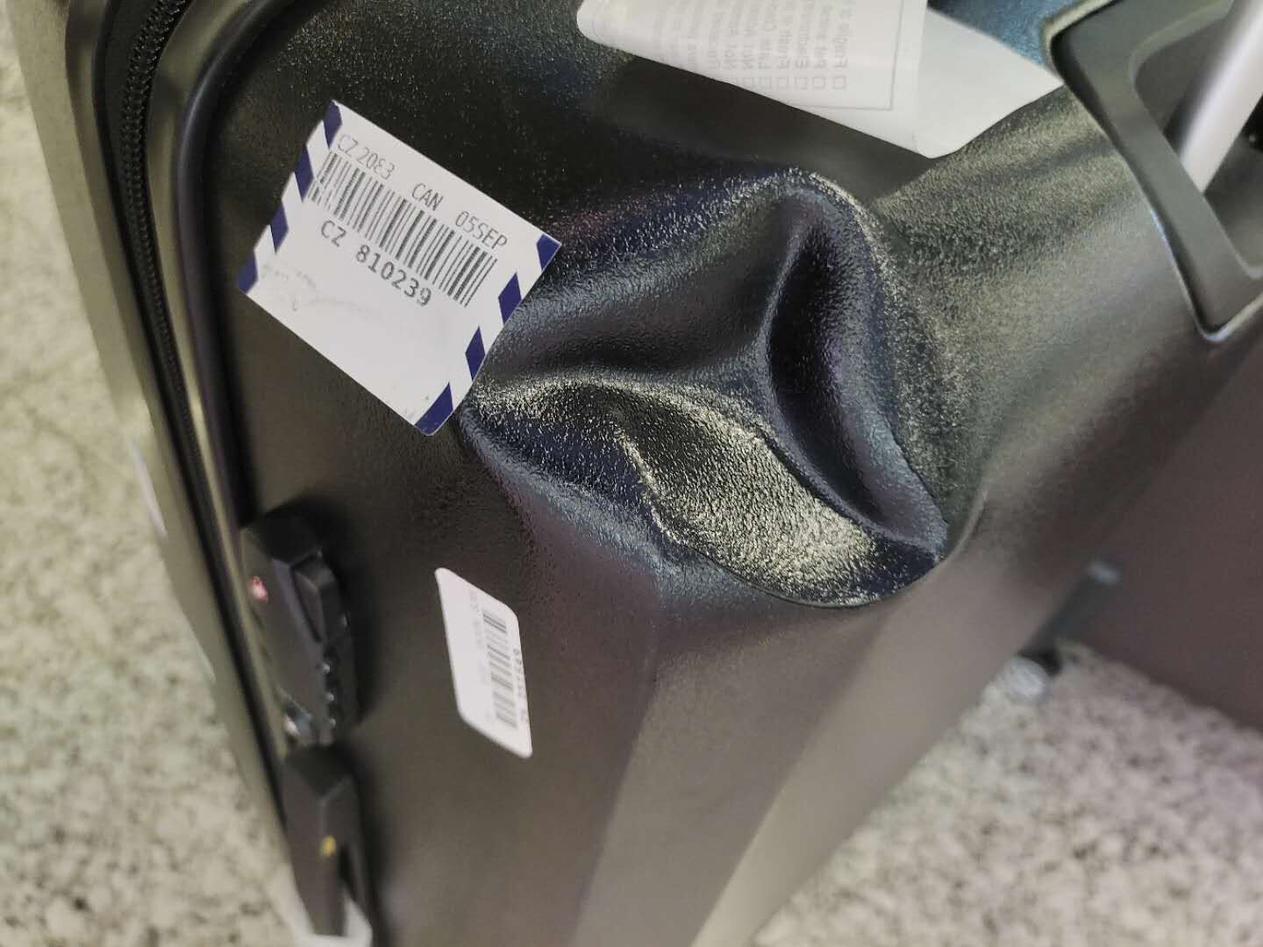rupture: (452, 169, 975, 612)
